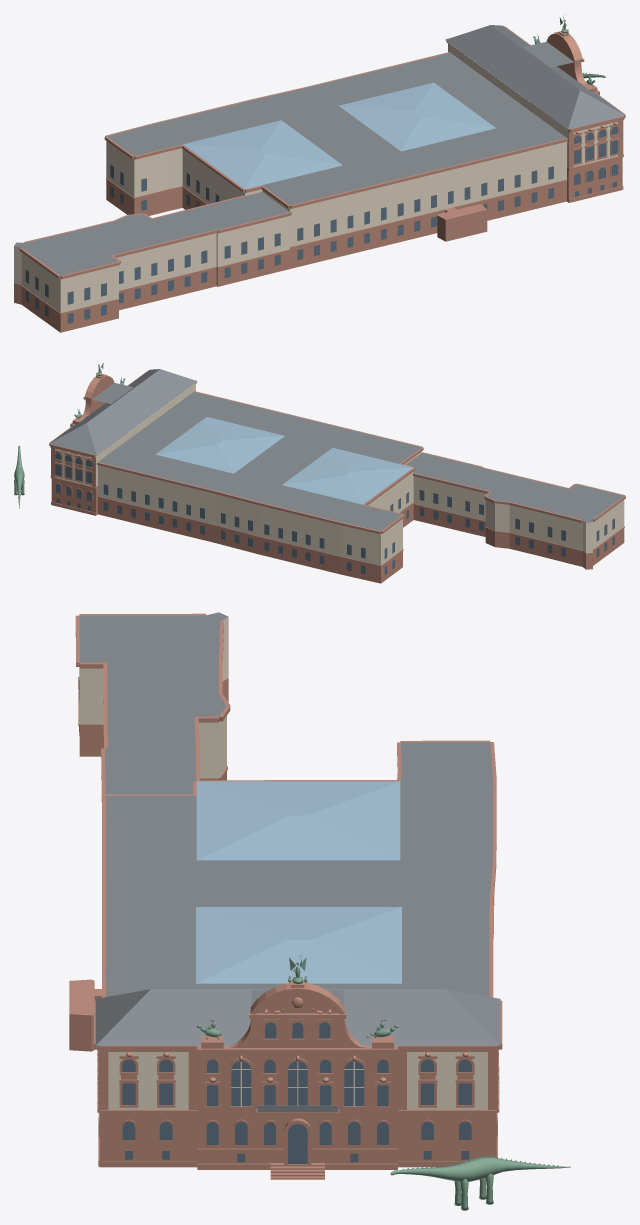
Rendered from frankfurt-senckenberg.detail.glb.
The picture shows the model from 3 angles, top to bottom: view 1: azimuth 30°, elevation 25°; view 2: azimuth 150°, elevation 25°; view 3: azimuth 270°, elevation 25°; orthographic projection. The views are drawn at different scales.
Parts seen in each view (by area): view 1: Senckenberg Naturmuseum; view 2: Senckenberg Naturmuseum; view 3: Senckenberg Naturmuseum.
Part boxes in pixels (x1,y1,x2,y2): Senckenberg Naturmuseum: (14,14,625,332); Senckenberg Naturmuseum: (14,361,625,583); Senckenberg Naturmuseum: (69,612,570,1210).
Size of the model in its own units: 154 by 29.7 by 62.98.
